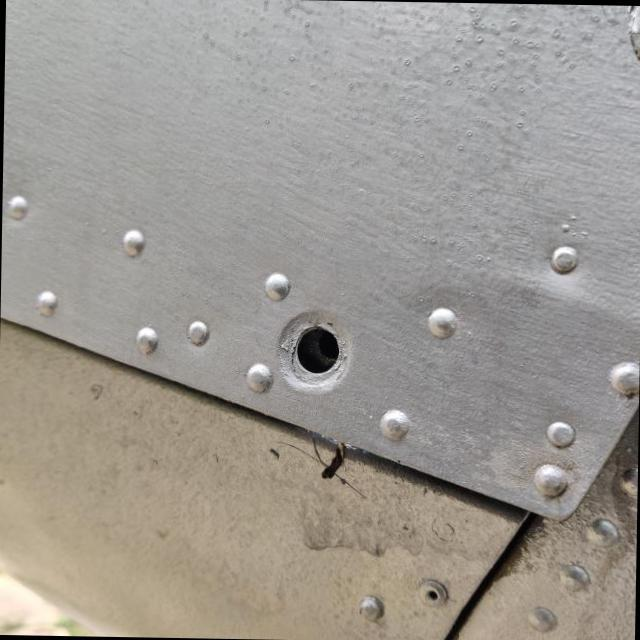Fastener Damage: (222, 274, 398, 439)
